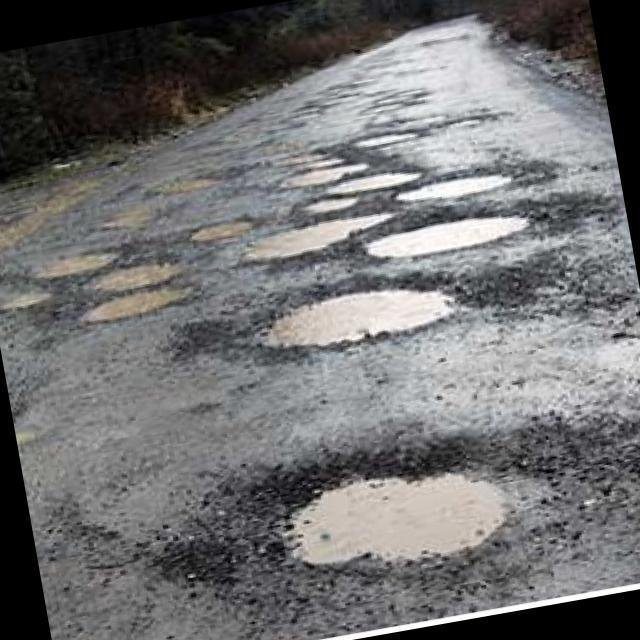Pothole: (266, 417, 564, 603), (225, 258, 502, 360), (350, 198, 561, 280), (229, 203, 411, 274), (69, 248, 207, 308), (387, 166, 532, 220), (170, 200, 290, 264), (60, 274, 202, 328), (17, 234, 135, 286), (134, 163, 254, 203), (312, 164, 434, 200), (392, 110, 507, 148), (294, 182, 391, 226), (340, 121, 432, 165), (276, 154, 384, 190), (84, 198, 180, 228), (0, 277, 62, 323), (257, 148, 331, 173)
